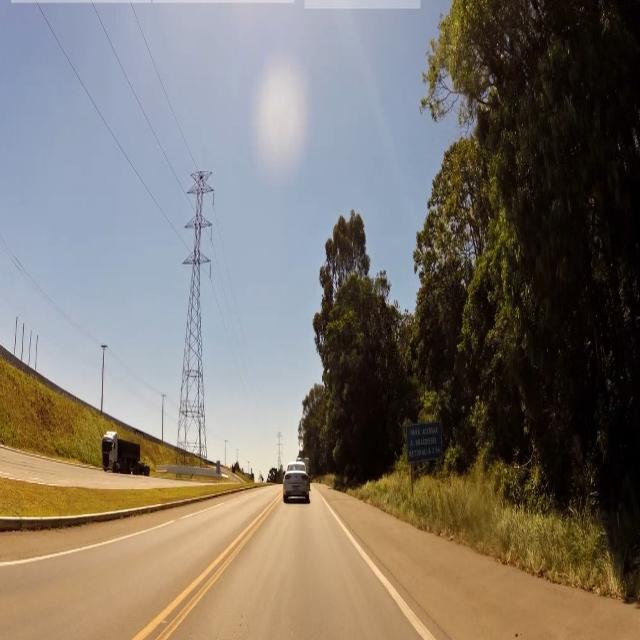LOC-6: (408, 423, 443, 461)
